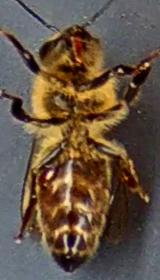varroa_mite: (30, 162, 60, 196)
